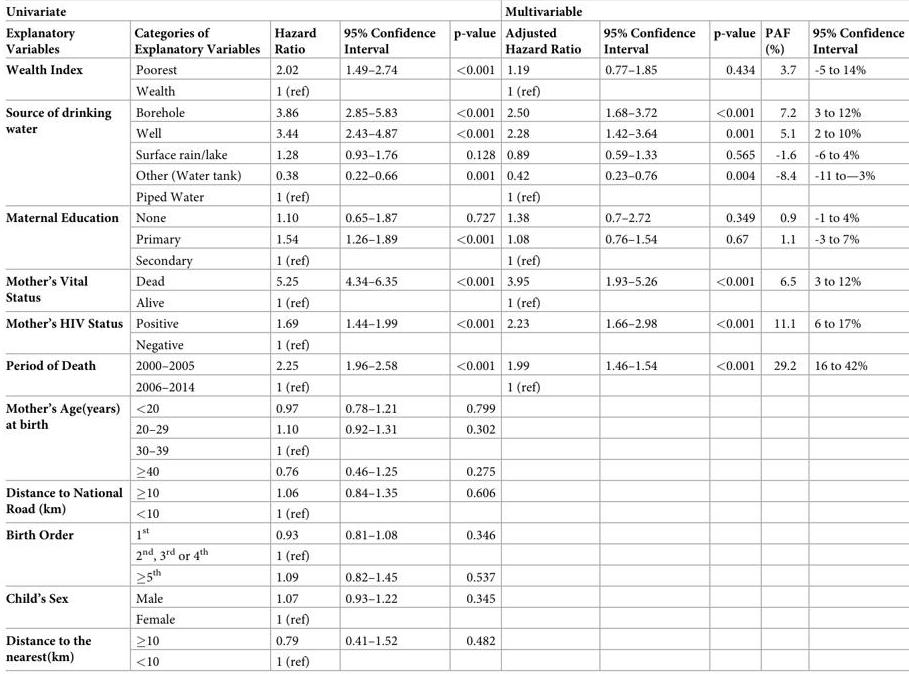table: (5, 5, 903, 668)
table column: (128, 5, 266, 668), (5, 5, 128, 668), (329, 5, 444, 668), (591, 5, 703, 668), (803, 5, 903, 668), (499, 5, 591, 668), (266, 5, 329, 668), (703, 5, 759, 668), (444, 5, 499, 668), (759, 5, 803, 668)
table column header: (5, 5, 903, 59)
table row: (5, 22, 903, 59), (5, 565, 903, 592), (5, 461, 903, 487), (5, 630, 903, 656), (5, 80, 903, 102), (5, 249, 903, 271), (5, 397, 903, 419), (5, 59, 903, 80), (5, 102, 903, 123), (5, 123, 903, 144), (5, 144, 903, 165), (5, 165, 903, 186), (5, 186, 903, 207), (5, 207, 903, 228), (5, 228, 903, 249), (5, 271, 903, 292), (5, 292, 903, 313), (5, 313, 903, 334), (5, 334, 903, 355), (5, 355, 903, 376), (5, 376, 903, 397), (5, 419, 903, 440), (5, 440, 903, 461), (5, 487, 903, 508), (5, 523, 903, 544), (5, 544, 903, 565), (5, 609, 903, 630), (5, 5, 903, 22), (5, 592, 903, 609), (5, 508, 903, 523), (5, 656, 903, 668)
table spanning cell: (5, 102, 128, 207), (5, 397, 128, 487), (5, 523, 128, 592), (5, 5, 499, 22), (5, 207, 128, 271), (499, 5, 903, 22), (5, 59, 128, 102), (5, 271, 128, 313), (5, 313, 128, 355), (5, 355, 128, 397), (5, 592, 128, 630), (5, 630, 128, 668), (5, 487, 128, 523)
